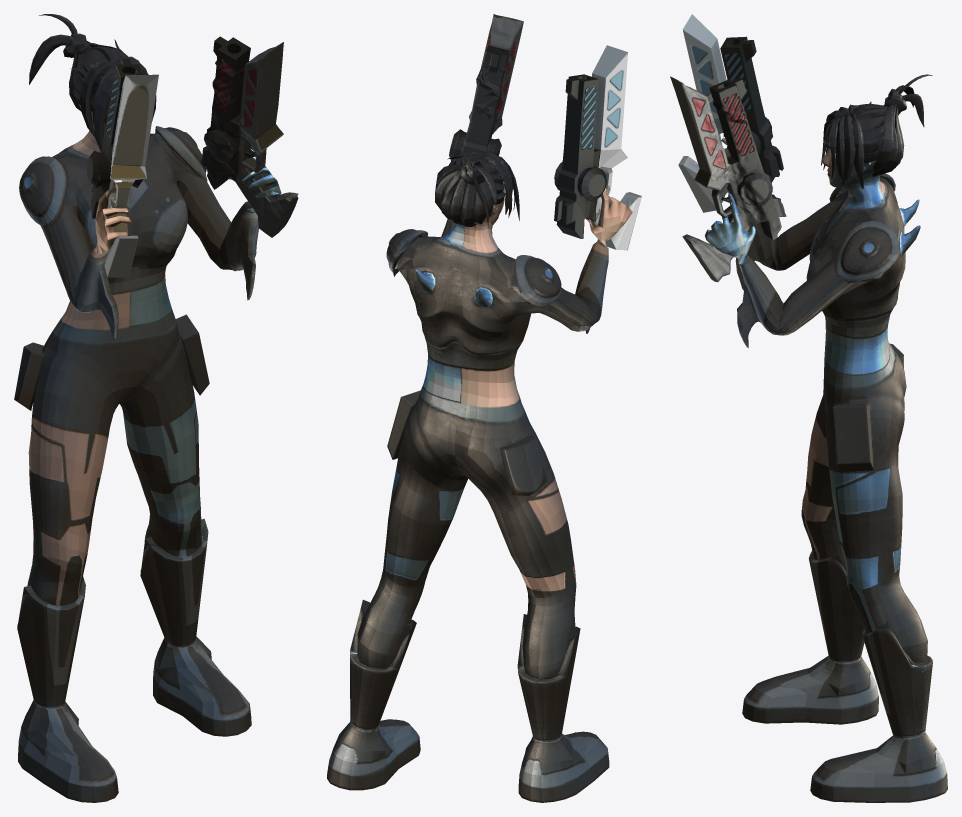
3 renders of one model, left to right at view 1: azimuth 30°, elevation 25°; view 2: azimuth 150°, elevation 25°; view 3: azimuth 270°, elevation 25°, orthographic. The views are drawn at different scales.
Visible parts, largest first — view 1: Dex_LOW_Plane.001; view 2: Dex_LOW_Plane.001; view 3: Dex_LOW_Plane.001.
Part boxes in pixels (x1,y1,x2,y2): Dex_LOW_Plane.001: (14,14,298,802); Dex_LOW_Plane.001: (327,14,641,802); Dex_LOW_Plane.001: (670,14,947,802).
Bounding box in the file's own units: 1.63 × 5.08 × 1.83.
